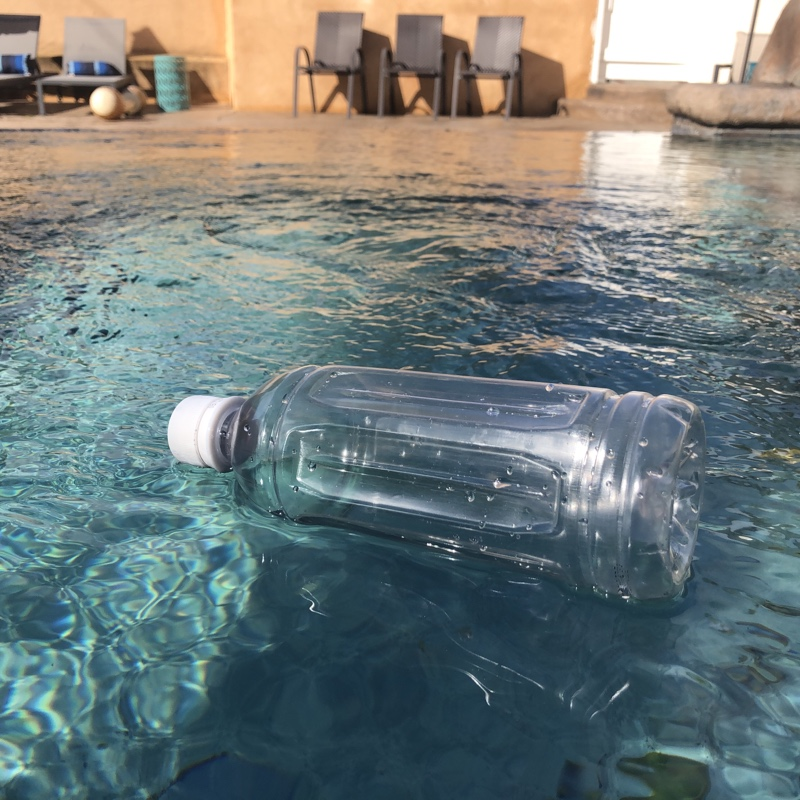Plastic Bottle: (160, 360, 712, 624)
